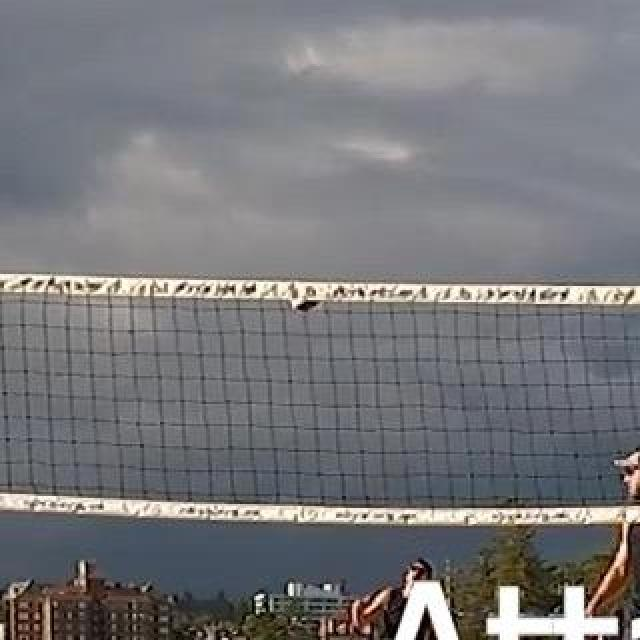volleyball: (289, 279, 319, 315)
